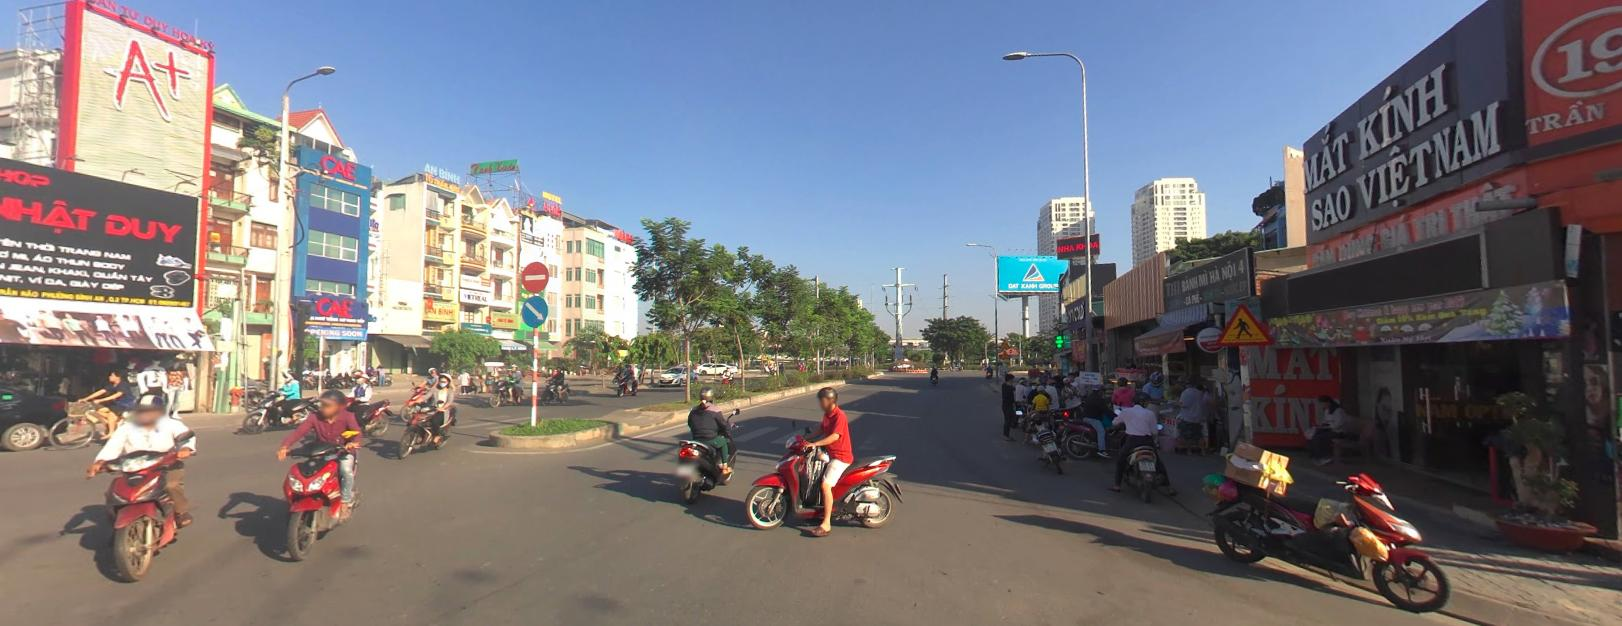Cam nguoc chieu: (522, 259, 548, 291)
Hieu lenh: (522, 295, 548, 325)
Nguy hiem: (1218, 301, 1274, 342), (1000, 349, 1009, 357), (1000, 338, 1009, 346)
